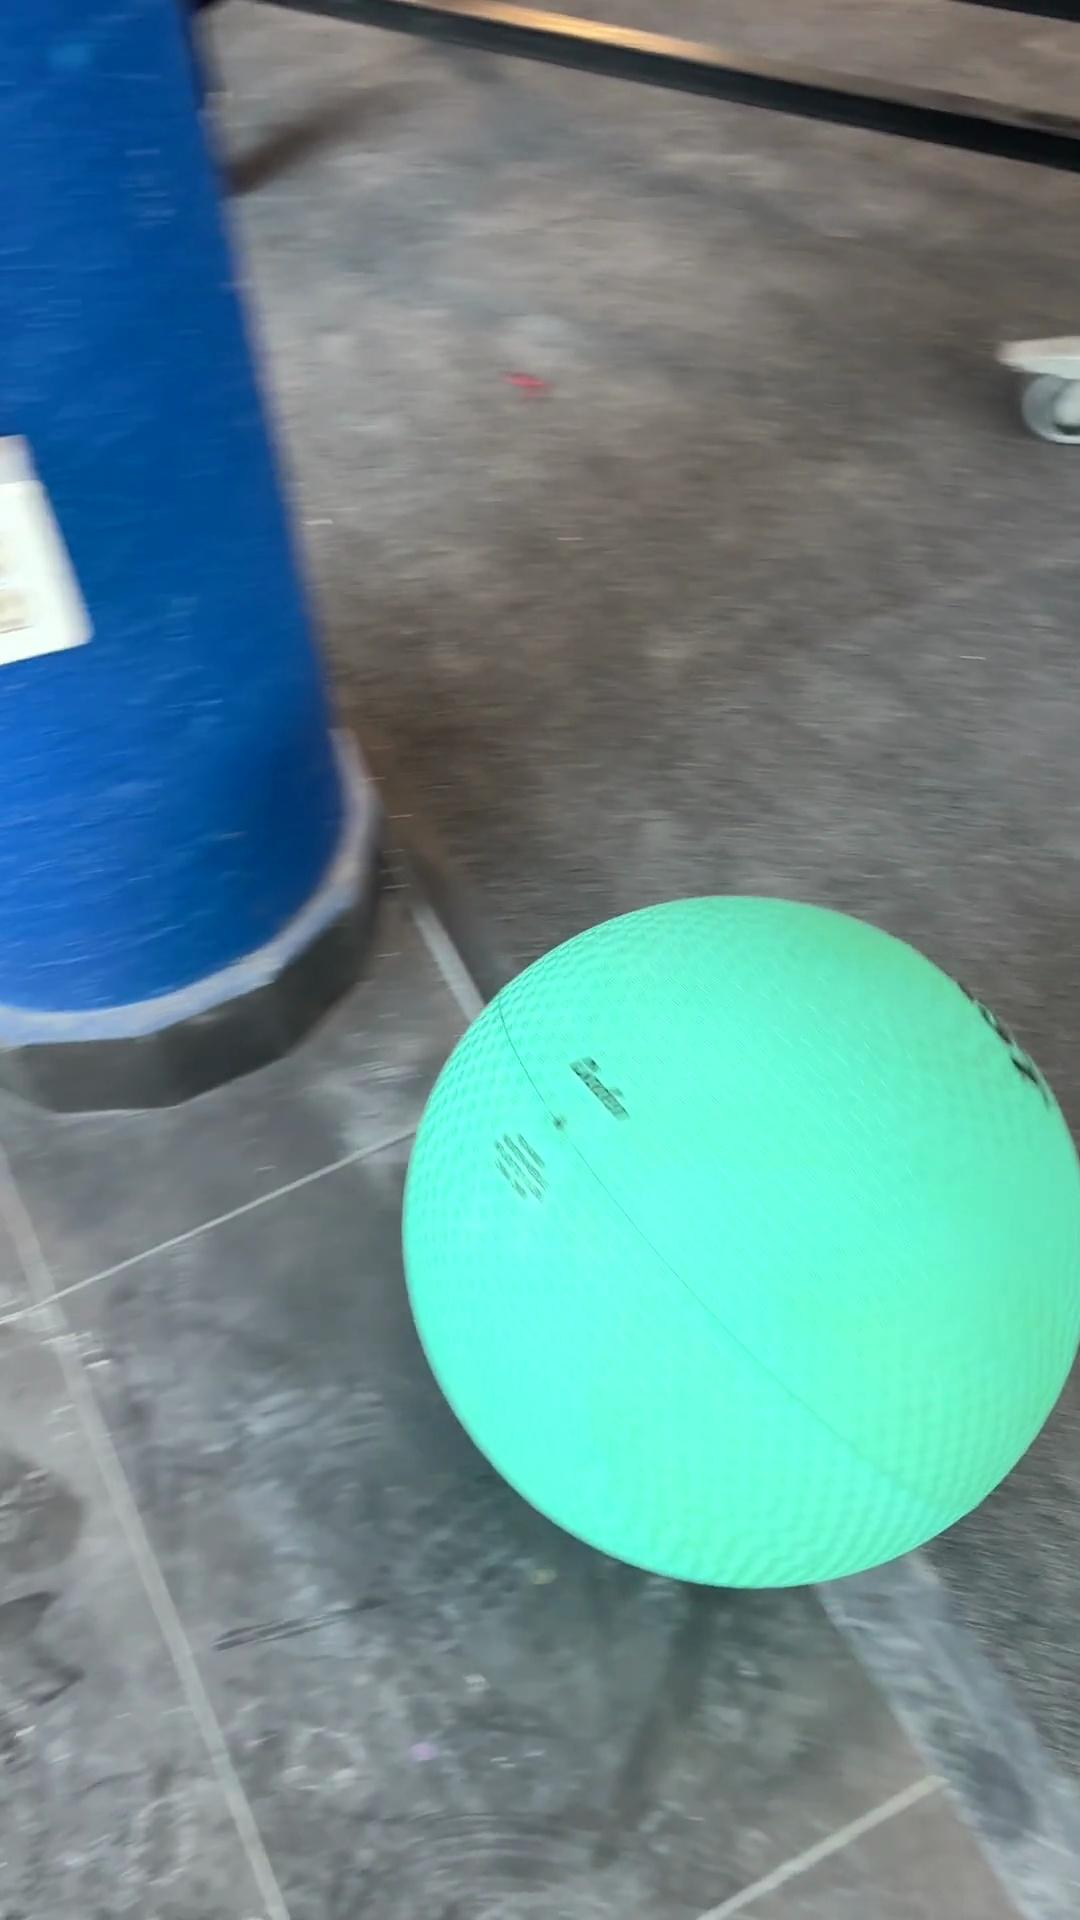ALGAE: (398, 889, 1077, 1592)
